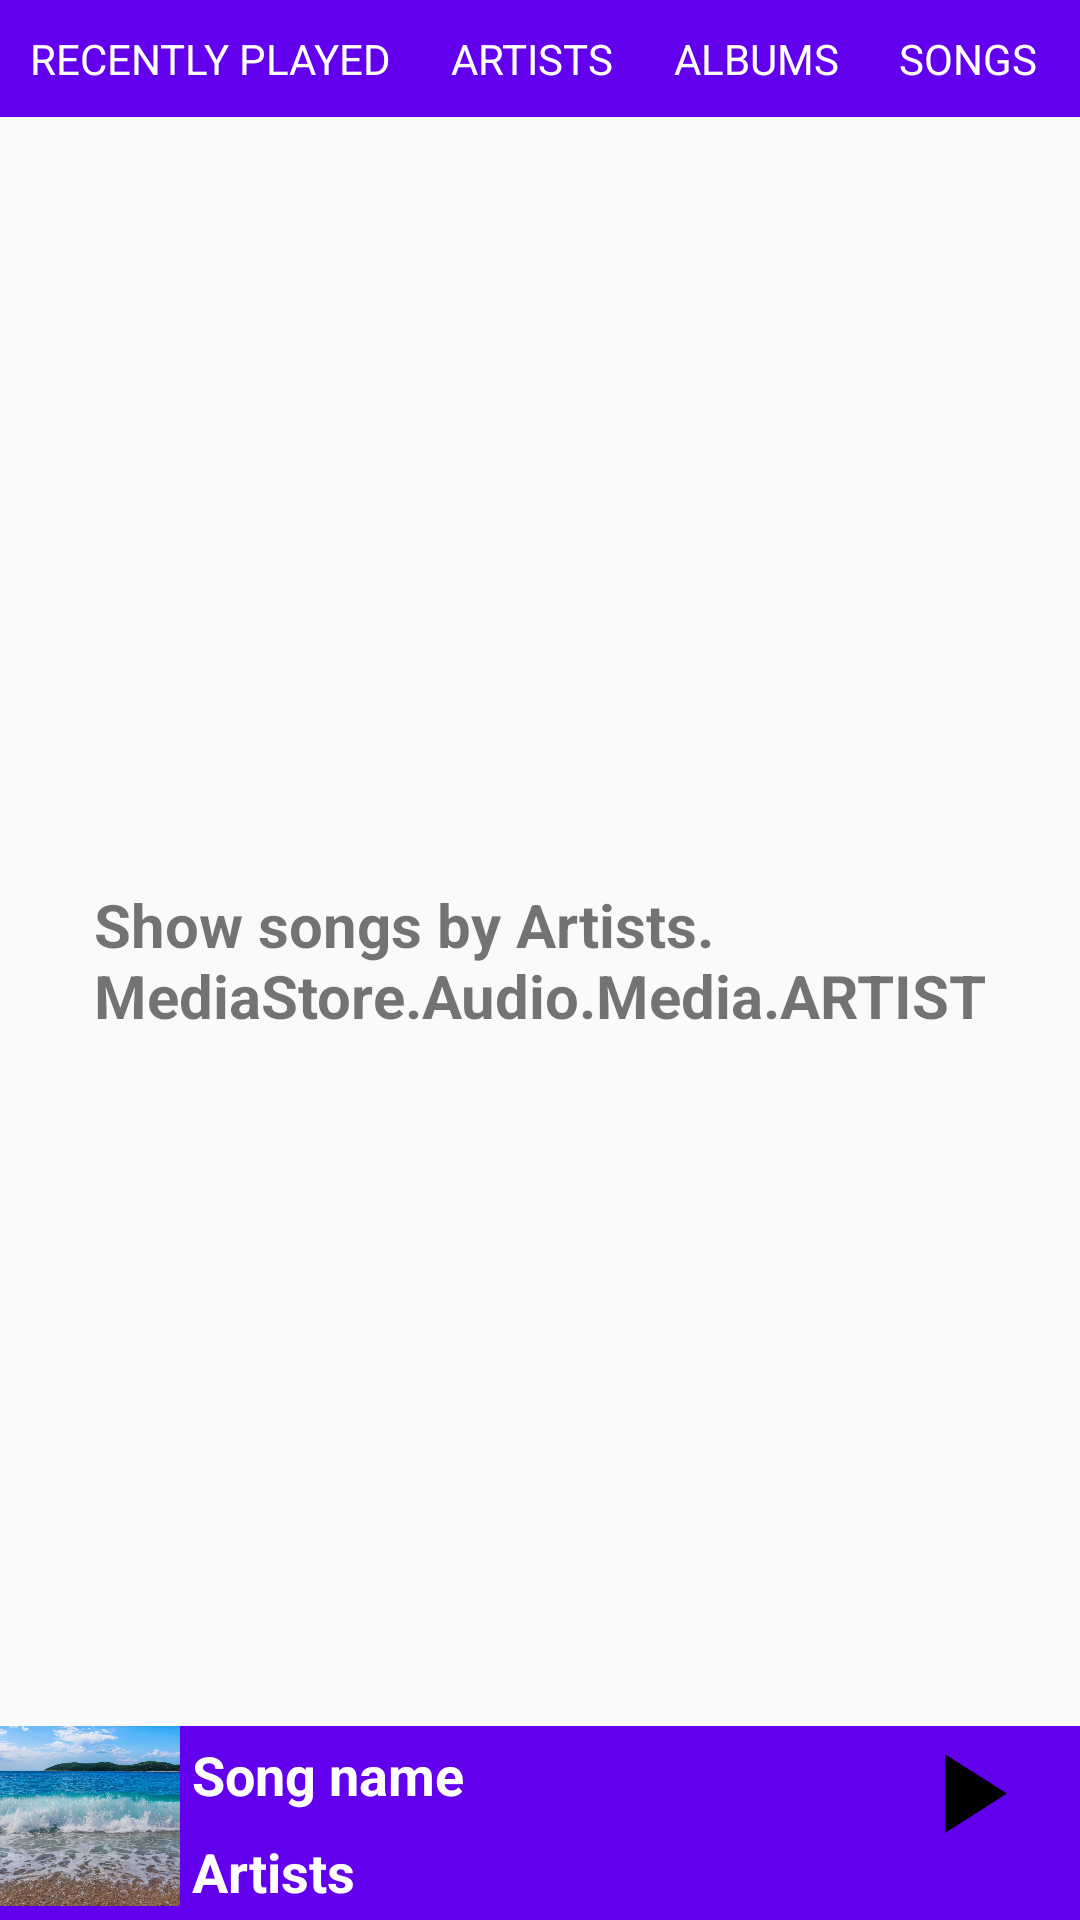

Icon bounding boxes for this 1080x1920 phone screenshot, format (x1, y1, x2, y2):
album artwork: (0, 1726, 180, 1906)
play arrow: (945, 1754, 1007, 1833)
